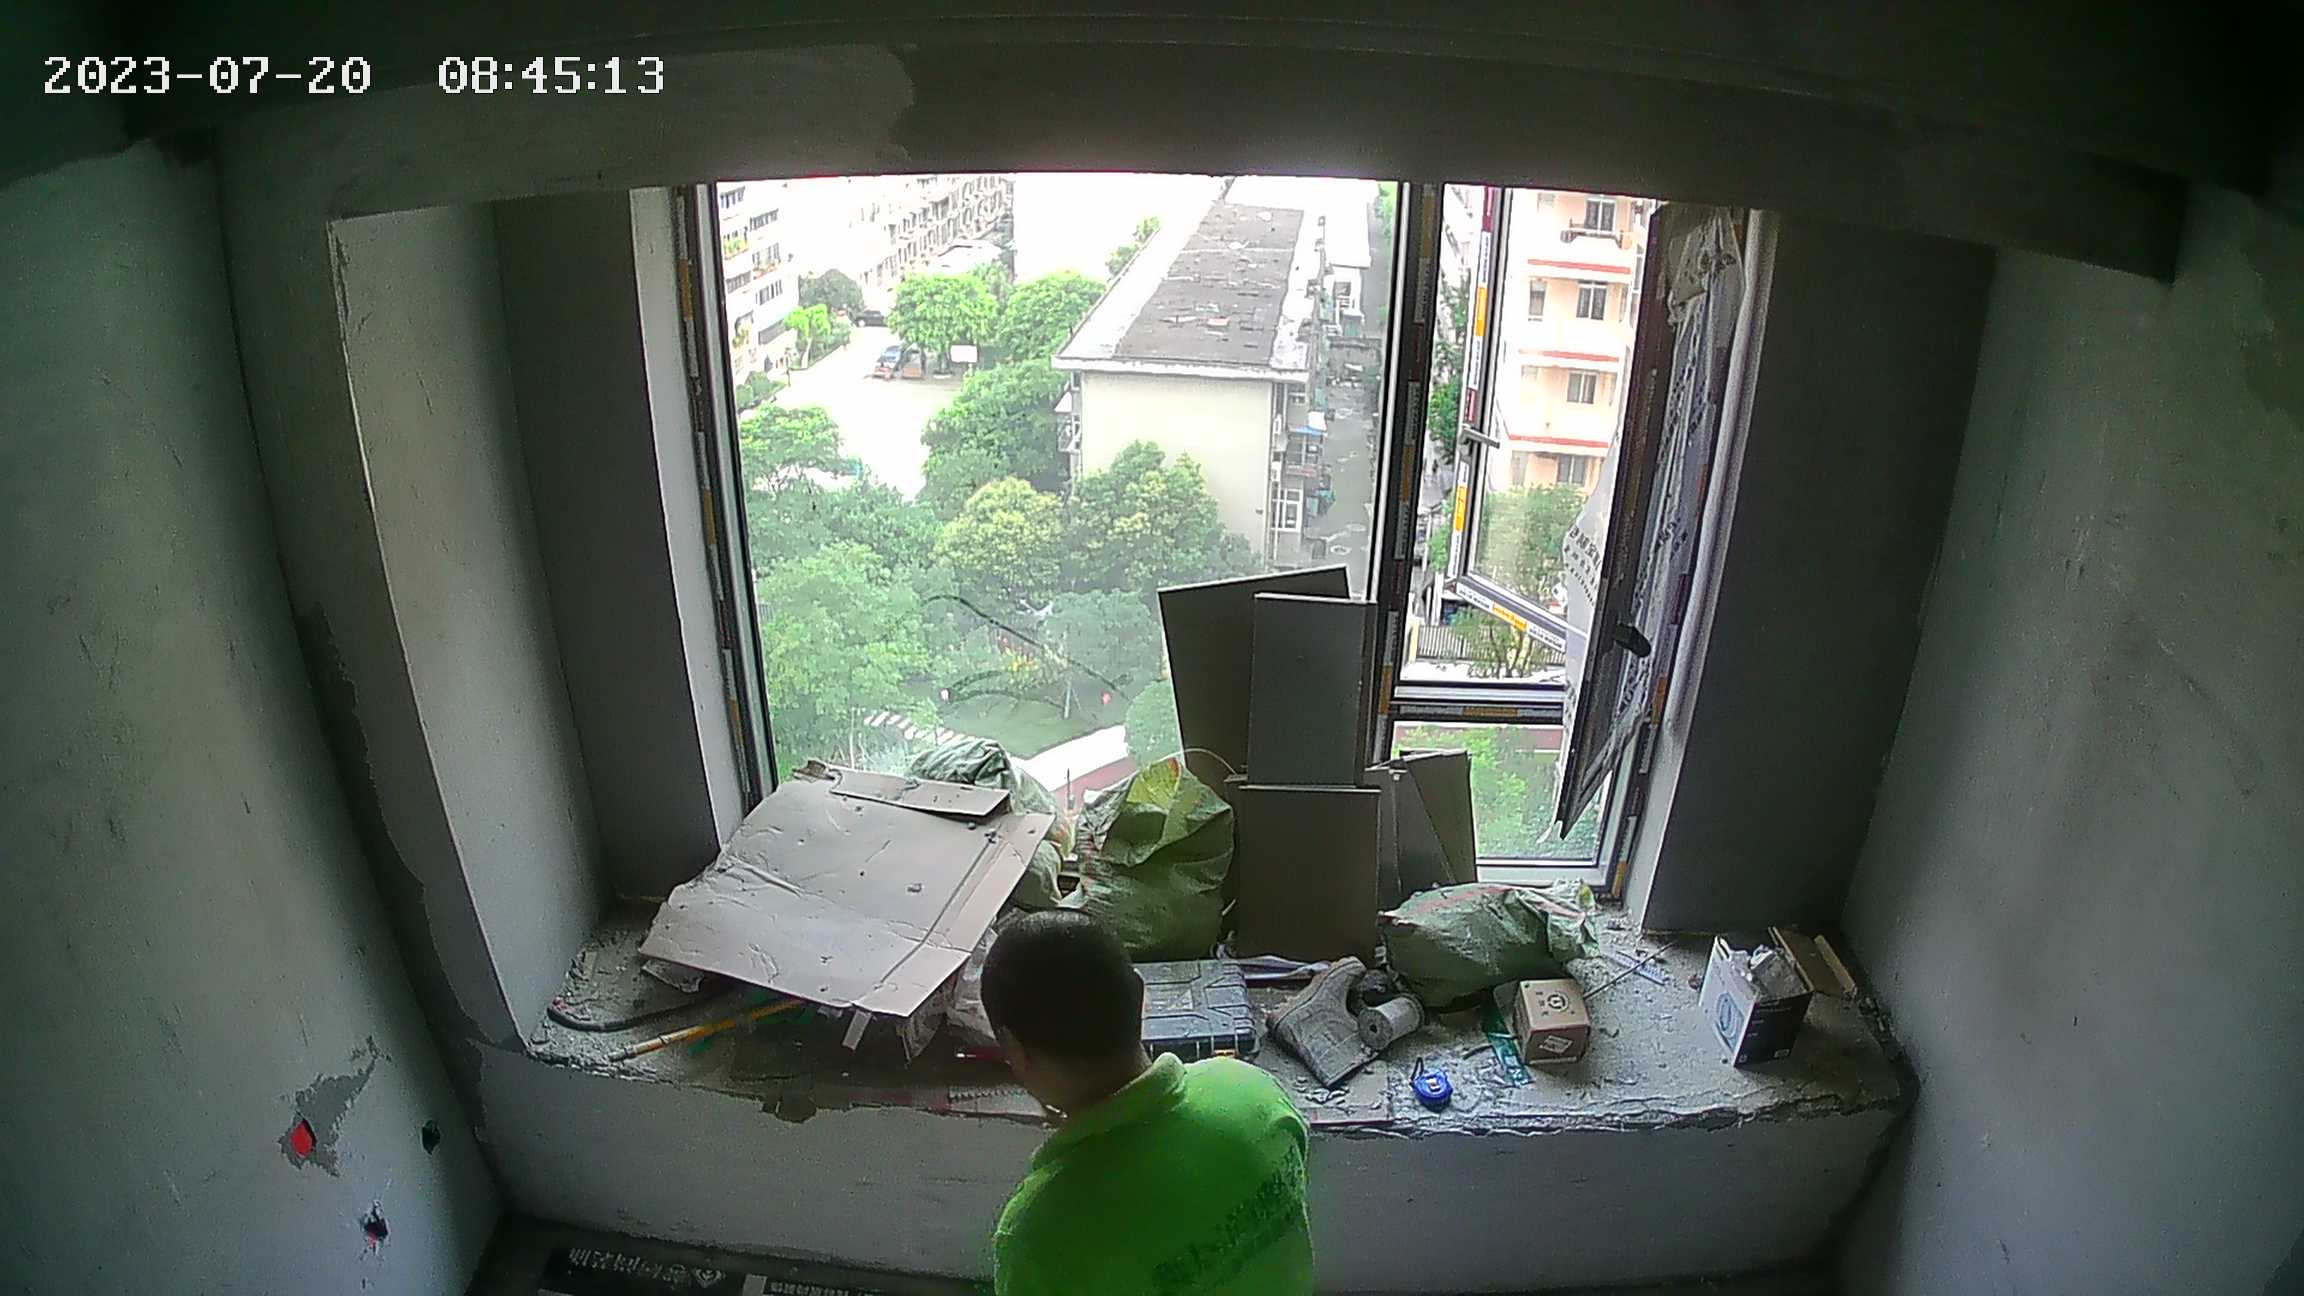people: (962, 908, 1326, 1296)
window: (697, 183, 1639, 884)
